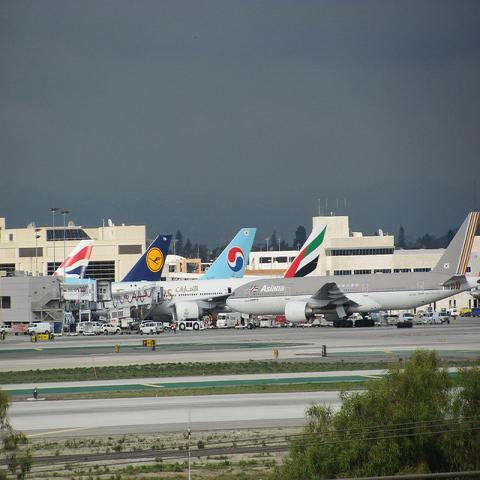car: (100, 323, 121, 335), (348, 314, 362, 325), (423, 313, 434, 324), (417, 309, 426, 317)
truck: (175, 317, 205, 331), (217, 312, 241, 329), (27, 323, 52, 336), (139, 322, 164, 334), (396, 311, 413, 328), (432, 312, 451, 326), (83, 322, 102, 335), (459, 306, 472, 318), (0, 324, 12, 334), (447, 307, 458, 317), (259, 321, 270, 328)
